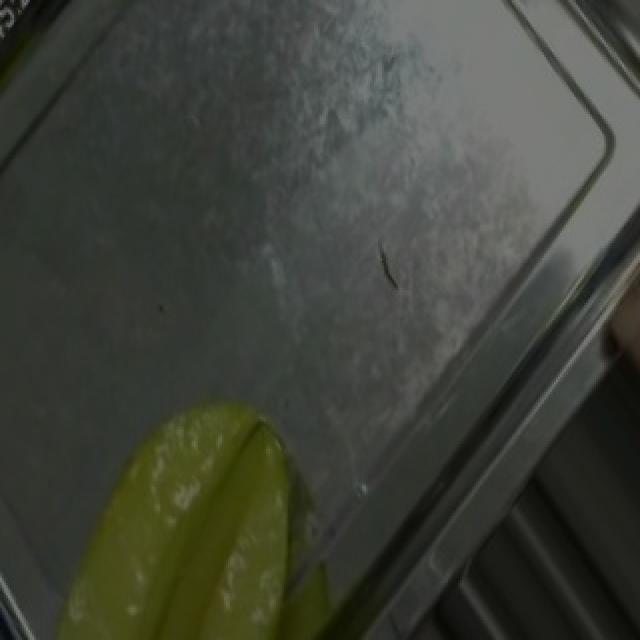fruit: (12, 357, 394, 640)
